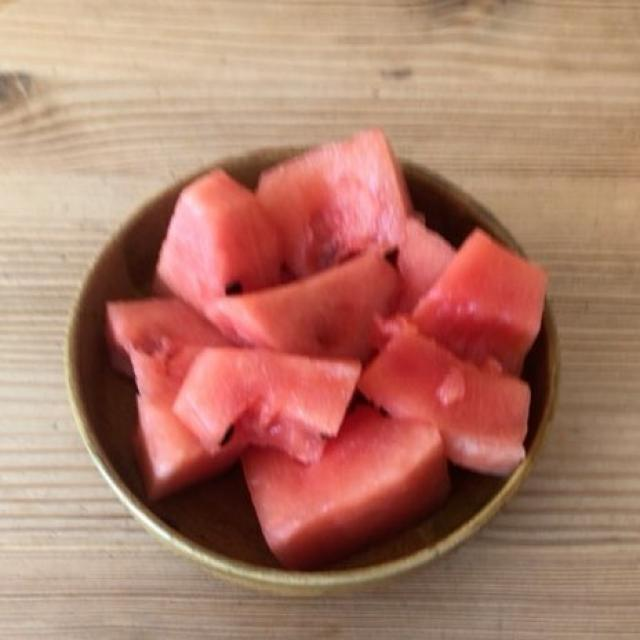watermelon: (114, 137, 538, 554)
